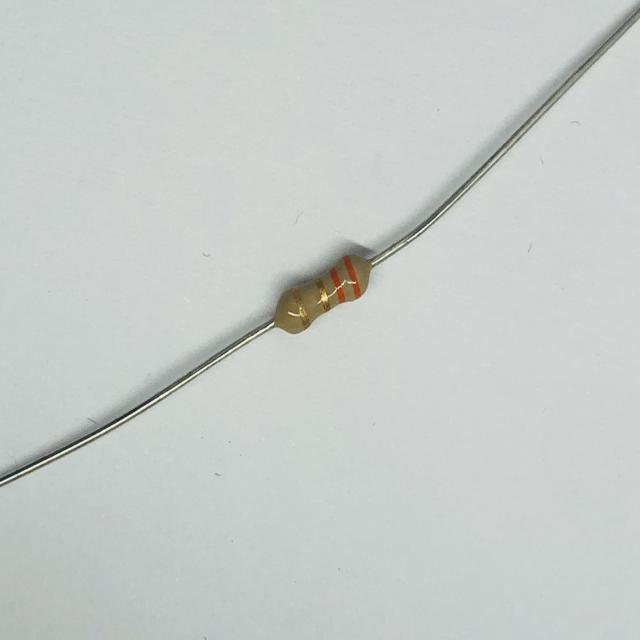capacitor: (269, 246, 375, 340)
